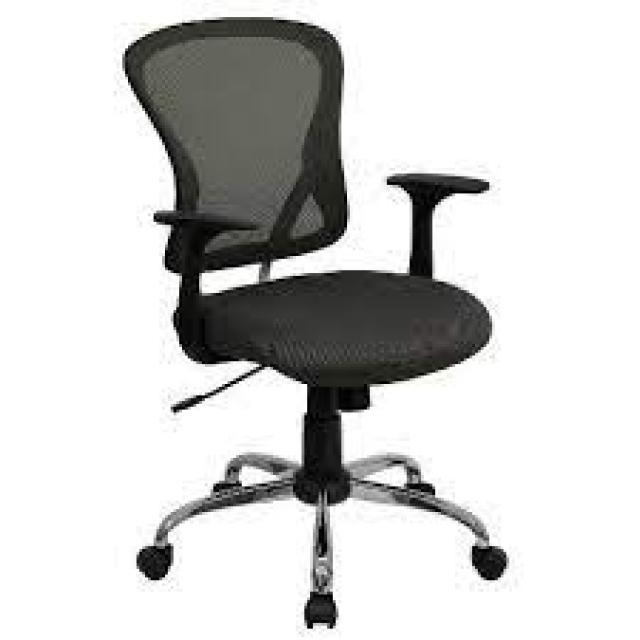chair: (85, 3, 580, 640)
